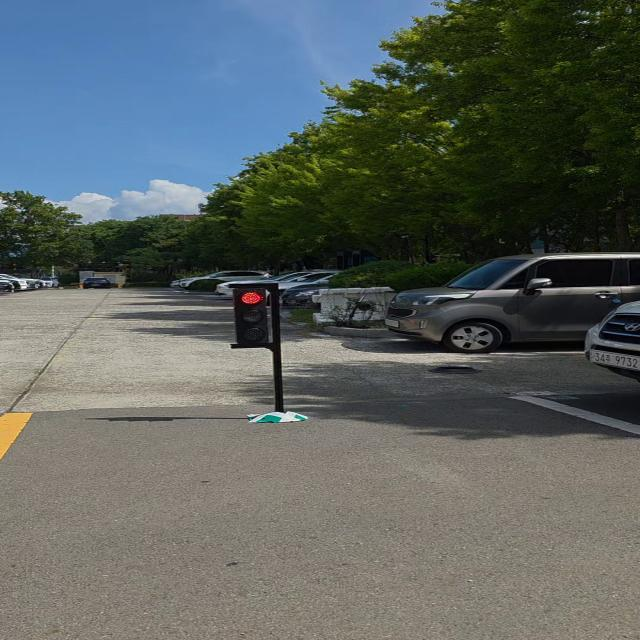red: (228, 283, 274, 347)
